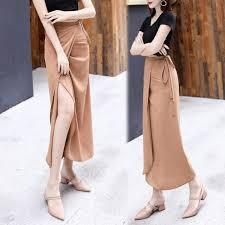skirt: (45, 21, 94, 173), (141, 57, 196, 191)
